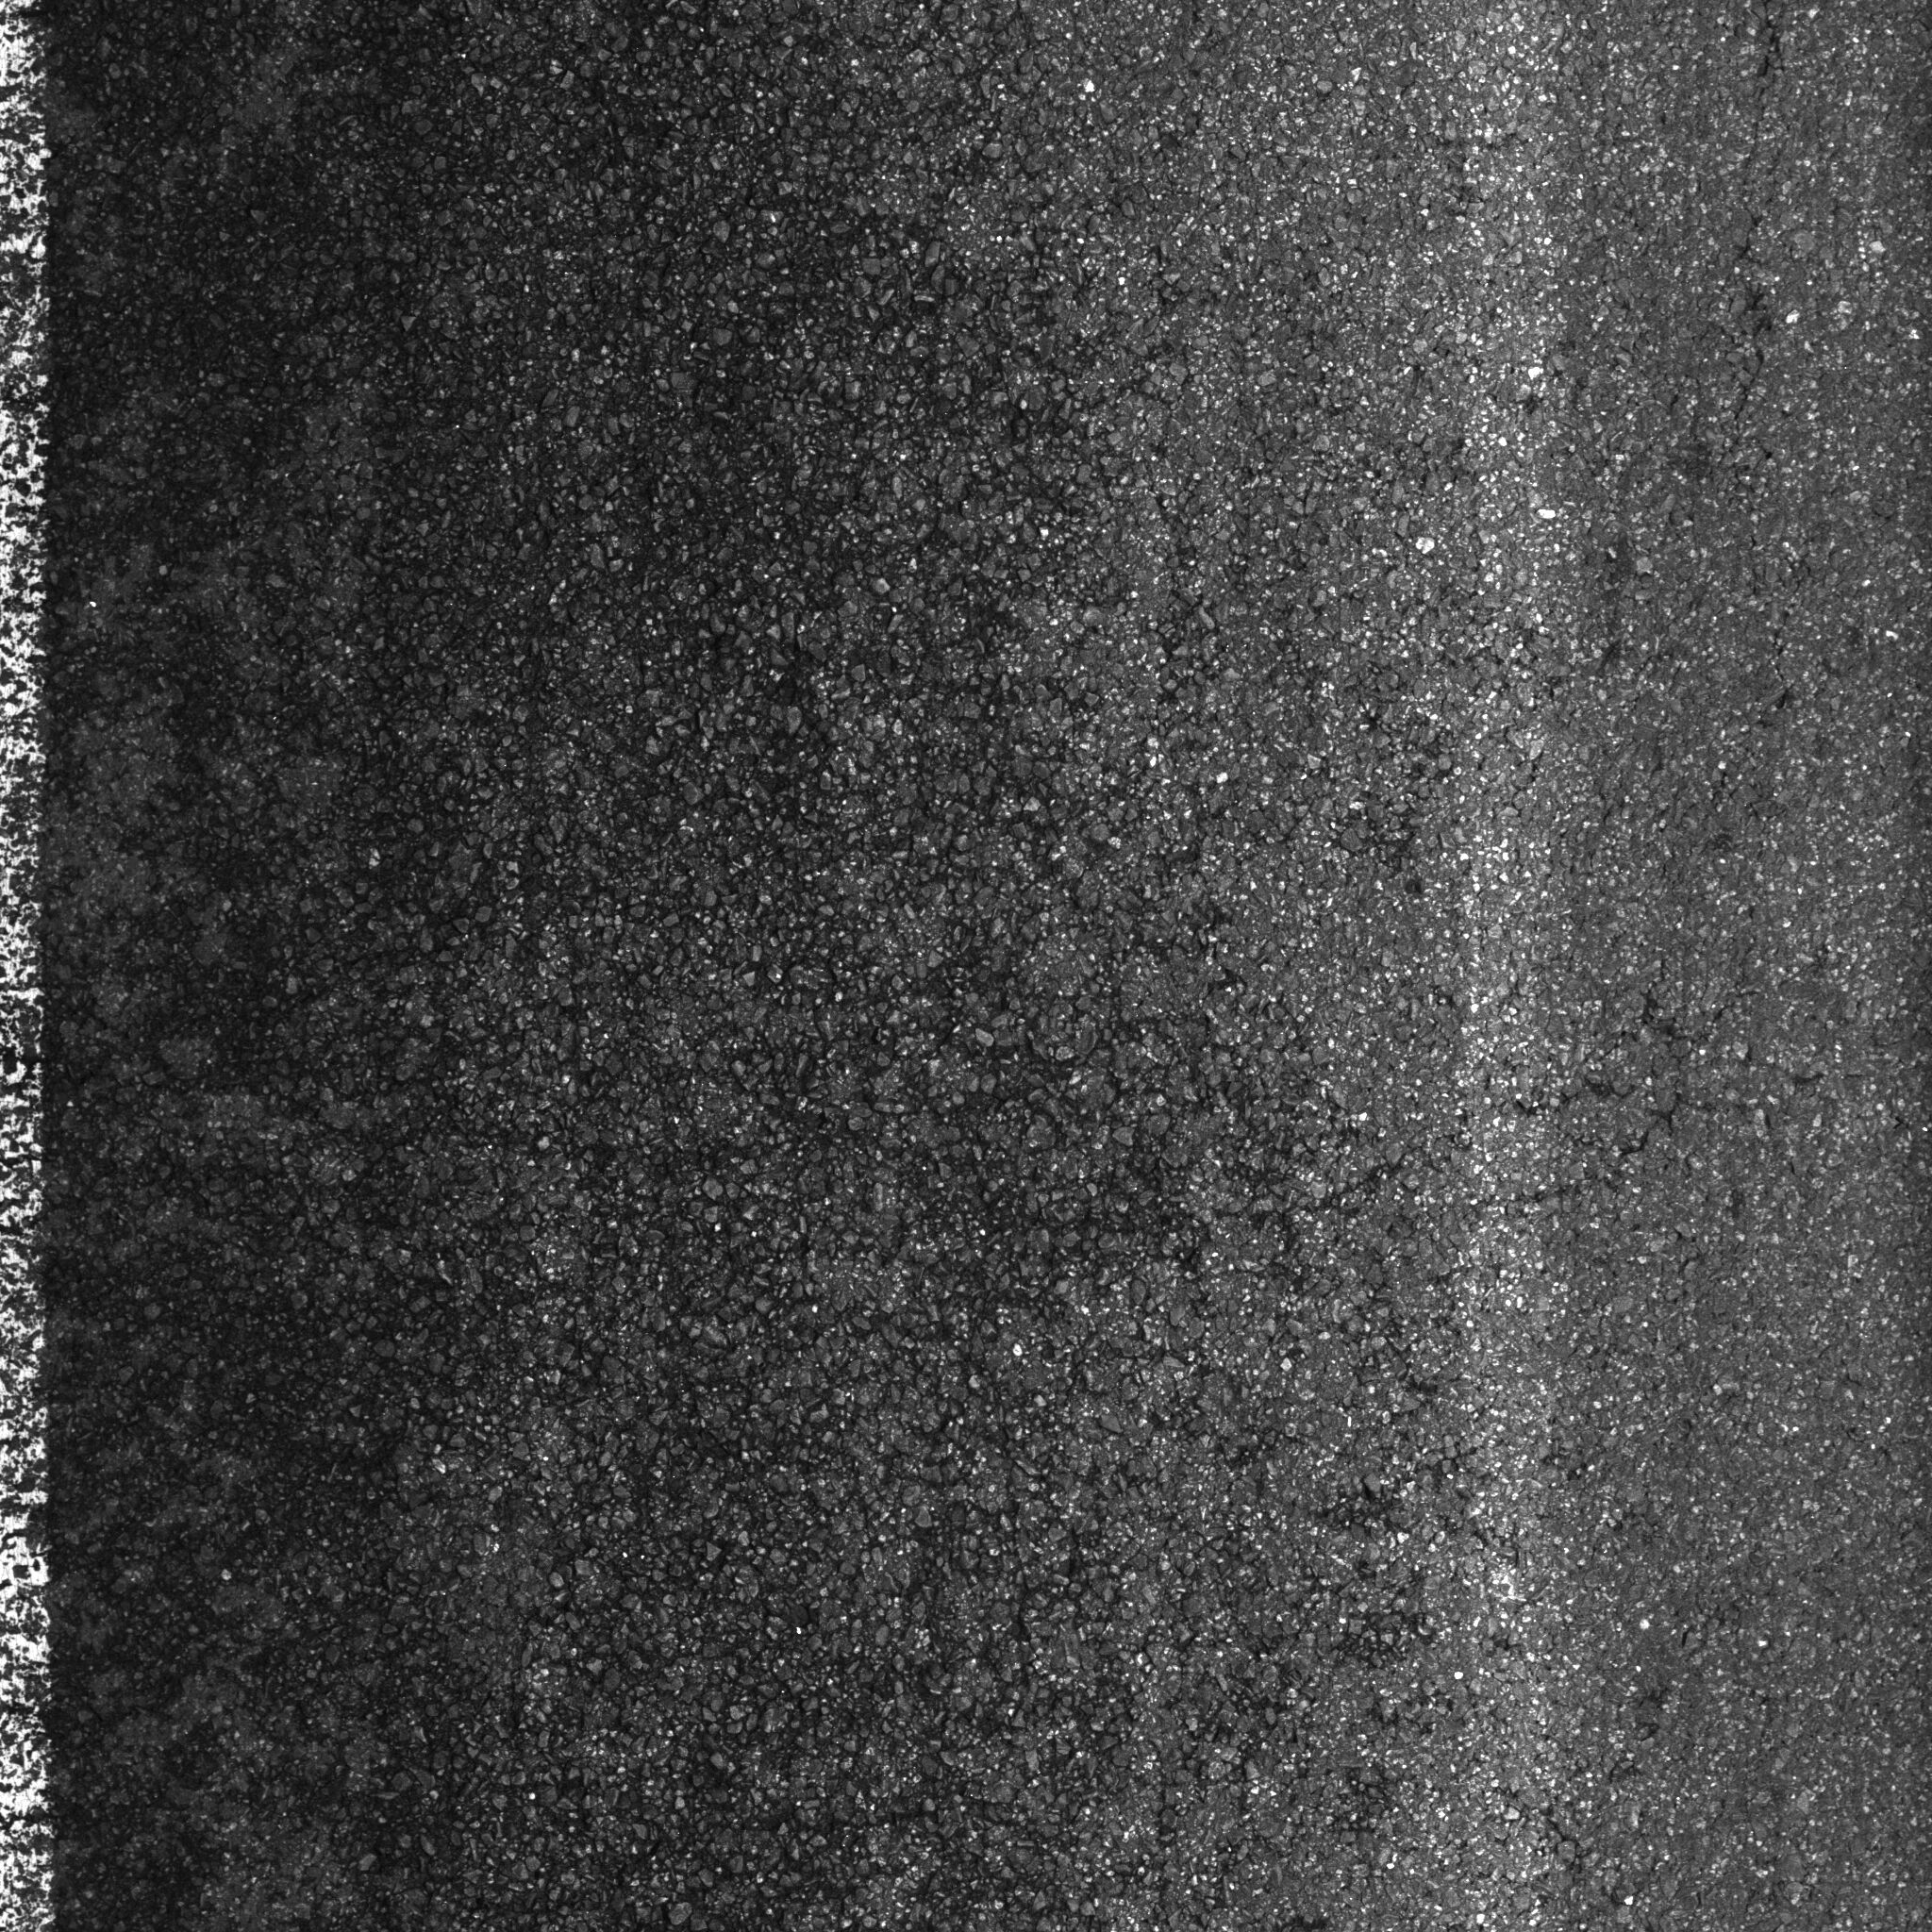transeverse: (1686, 9, 1815, 717), (1486, 985, 1778, 1221)
